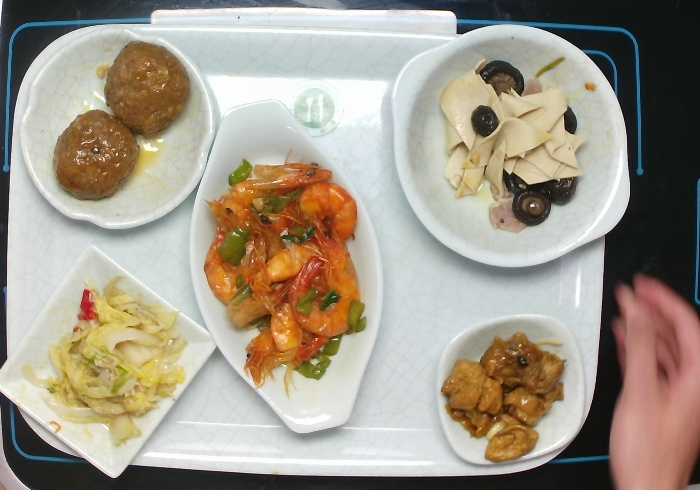JYsf-Ao_Yuan_Wan: (15, 23, 220, 237)
JYsf-Shuang_Er_Wan: (388, 19, 635, 271)
JYsf-Si_Fang_Die: (432, 312, 589, 468)
JYsf-Yu_Pan: (185, 96, 386, 436)
WCQzf-Ru_Ci_Si_Fang_Die: (1, 243, 220, 480)
